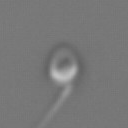abnormal: (26, 80, 82, 128)
